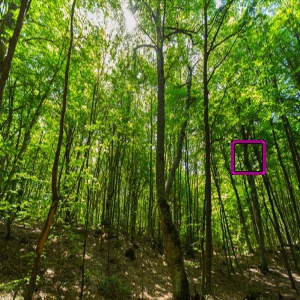square: (228, 137, 268, 176)
